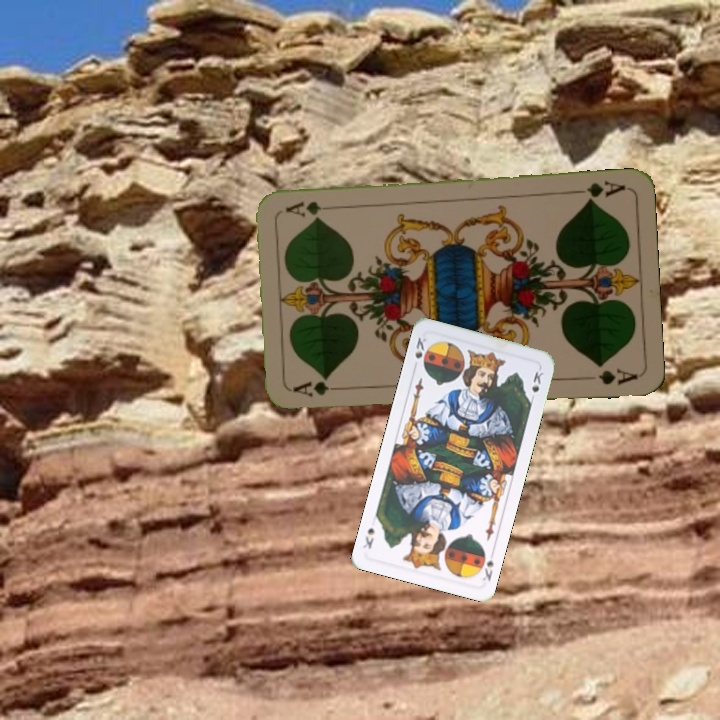GA: (569, 176, 628, 205), (289, 378, 349, 400)
SK: (475, 546, 497, 584), (409, 333, 429, 372)
